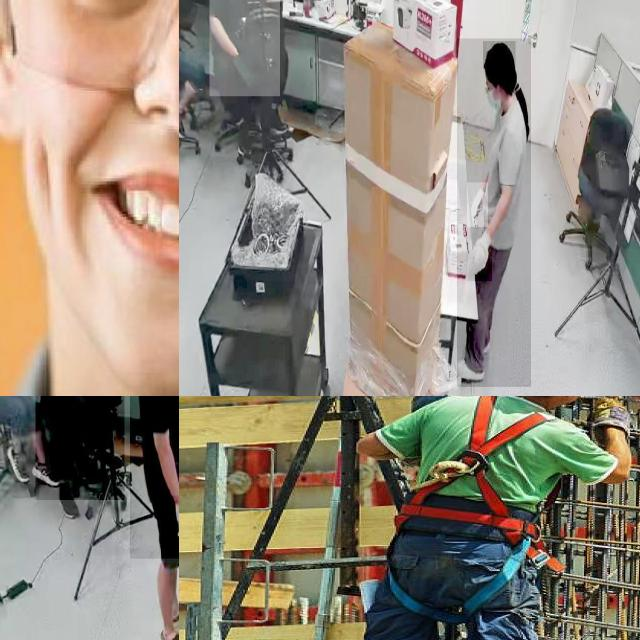Harness: (384, 396, 559, 637)
face_mask: (478, 73, 506, 119)
face_nomask: (20, 37, 179, 396)
hand_glove: (466, 228, 492, 282), (467, 182, 488, 227), (171, 495, 179, 547)
head_nohelmet: (483, 41, 516, 70)
person: (457, 38, 531, 388), (35, 396, 124, 500), (129, 396, 179, 559), (209, 0, 280, 97)
shoes: (30, 453, 60, 495), (6, 442, 32, 490), (454, 353, 486, 386), (158, 623, 179, 640), (166, 604, 179, 627)
